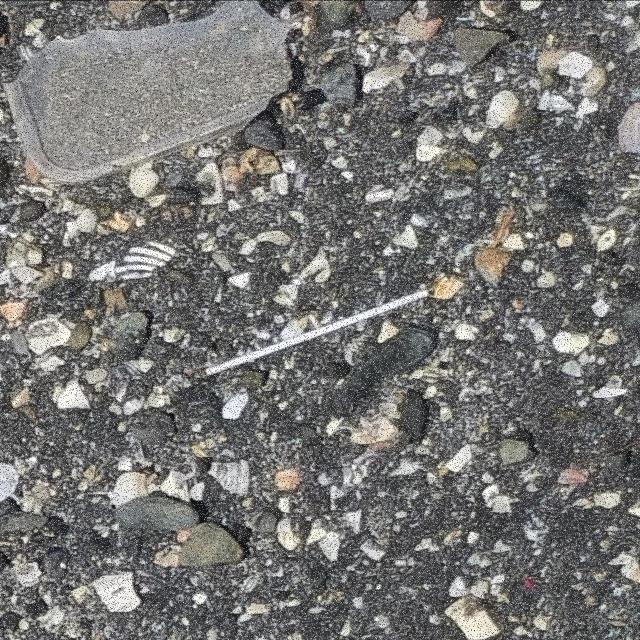plastic_waste: (205, 290, 434, 378)
